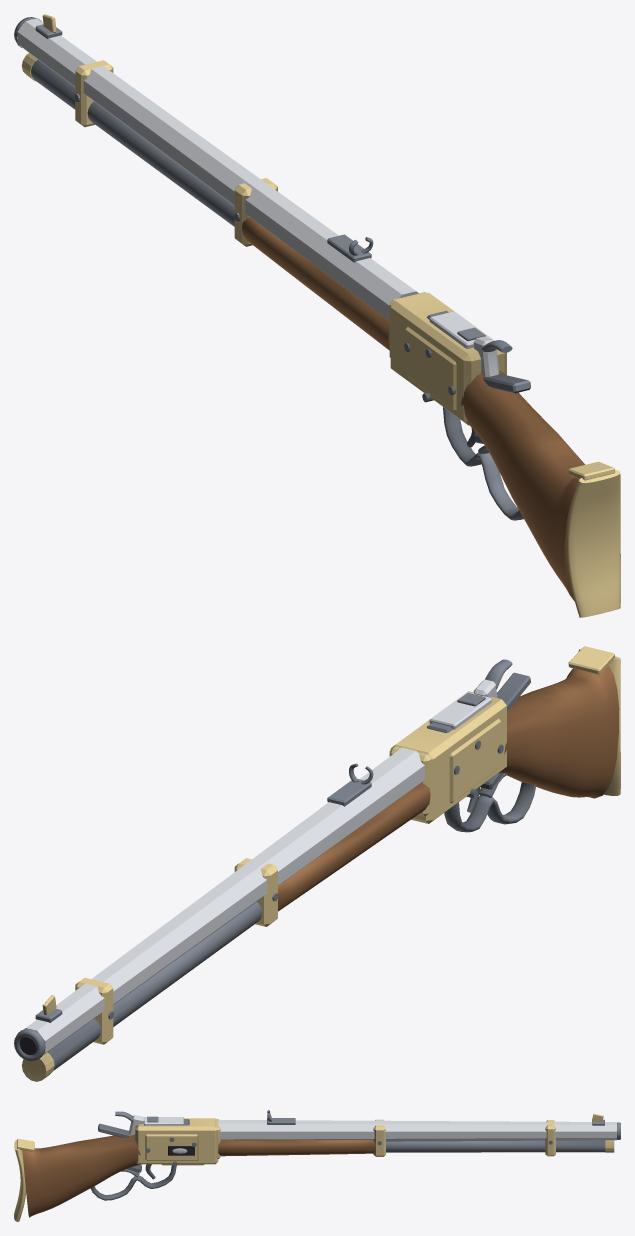
Rendered from rifle.glb.
The picture shows the model from 3 angles, top to bottom: view 1: azimuth 30°, elevation 25°; view 2: azimuth 150°, elevation 25°; view 3: azimuth 270°, elevation 25°; orthographic projection. The views are drawn at different scales.
Parts seen in each view (by area): view 1: Body, Lever, Hammer; view 2: Body, Lever, Hammer; view 3: Body, Lever, Hammer.
Boxes of the visible parts, box(x1,y1,x2,y2) form: Body: box(14, 14, 620, 617); Lever: box(443, 407, 523, 520); Hammer: box(473, 336, 512, 376); Body: box(14, 646, 620, 1081); Lever: box(444, 773, 536, 832); Hammer: box(473, 659, 512, 697); Body: box(14, 1110, 620, 1221); Lever: box(90, 1165, 176, 1200); Hammer: box(115, 1111, 144, 1135).
Bounding box in the file's own units: 0.0412 × 0.1462 × 0.7597.
